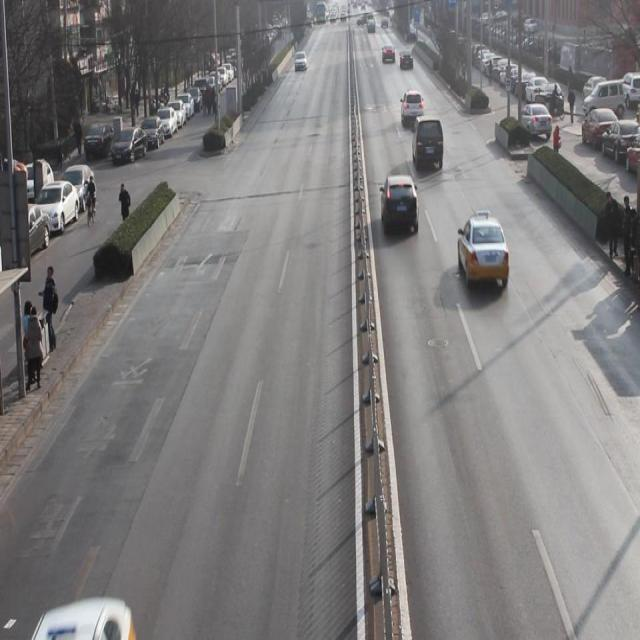car: (455, 214, 510, 290), (381, 172, 421, 236), (401, 90, 425, 126), (383, 37, 396, 66), (295, 46, 308, 74), (398, 47, 414, 67)
truck: (414, 116, 445, 172)
